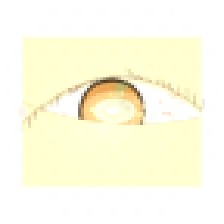corneal_ulcer: (81, 84, 149, 138)
